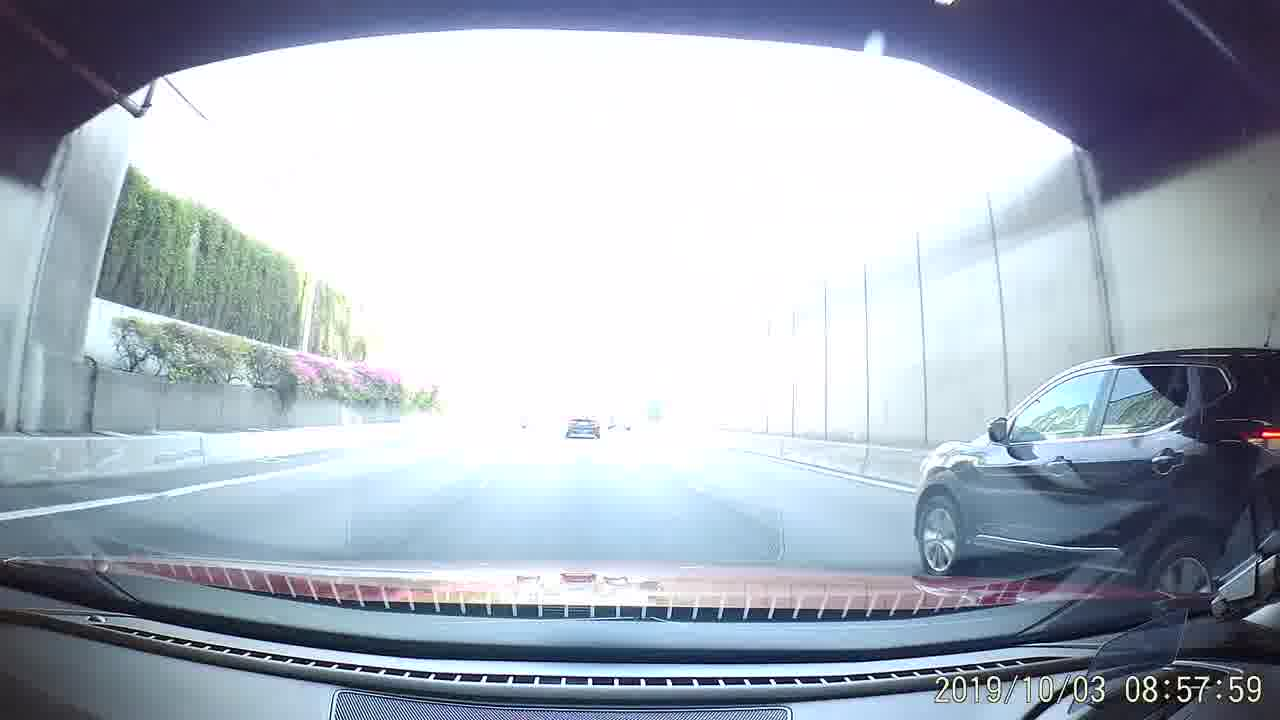car: (910, 348, 1279, 586), (563, 410, 603, 440)
